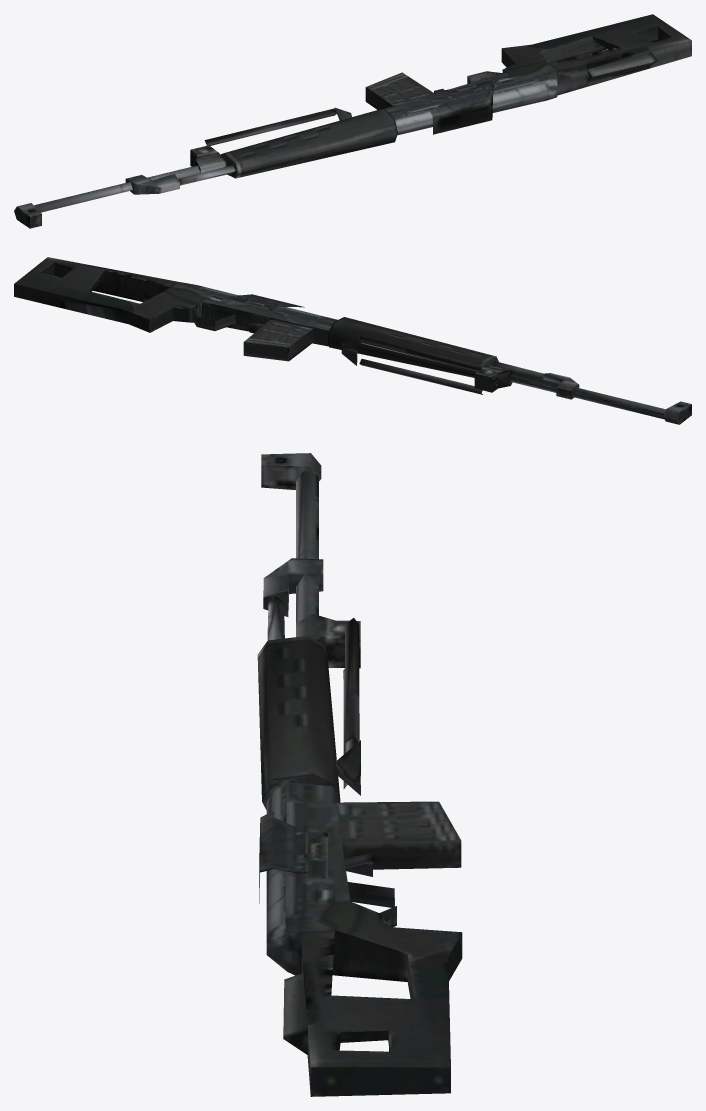
Rendered from Pickup_WeaponJjq03.glb.
The picture shows the model from 3 angles, top to bottom: view 1: azimuth 30°, elevation 25°; view 2: azimuth 150°, elevation 25°; view 3: azimuth 270°, elevation 25°; orthographic projection. The views are drawn at different scales.
Visible parts, largest first — view 1: pk_weapon_jjq03; view 2: pk_weapon_jjq03; view 3: pk_weapon_jjq03.
Part boxes in pixels (x1,y1,x2,y2): pk_weapon_jjq03: (14,14,691,228); pk_weapon_jjq03: (14,257,691,424); pk_weapon_jjq03: (257,453,462,1096).
Bounding box in the file's own units: 1.42 × 0.0641 × 0.2133.
Materials: 1 (1 with a texture image).
